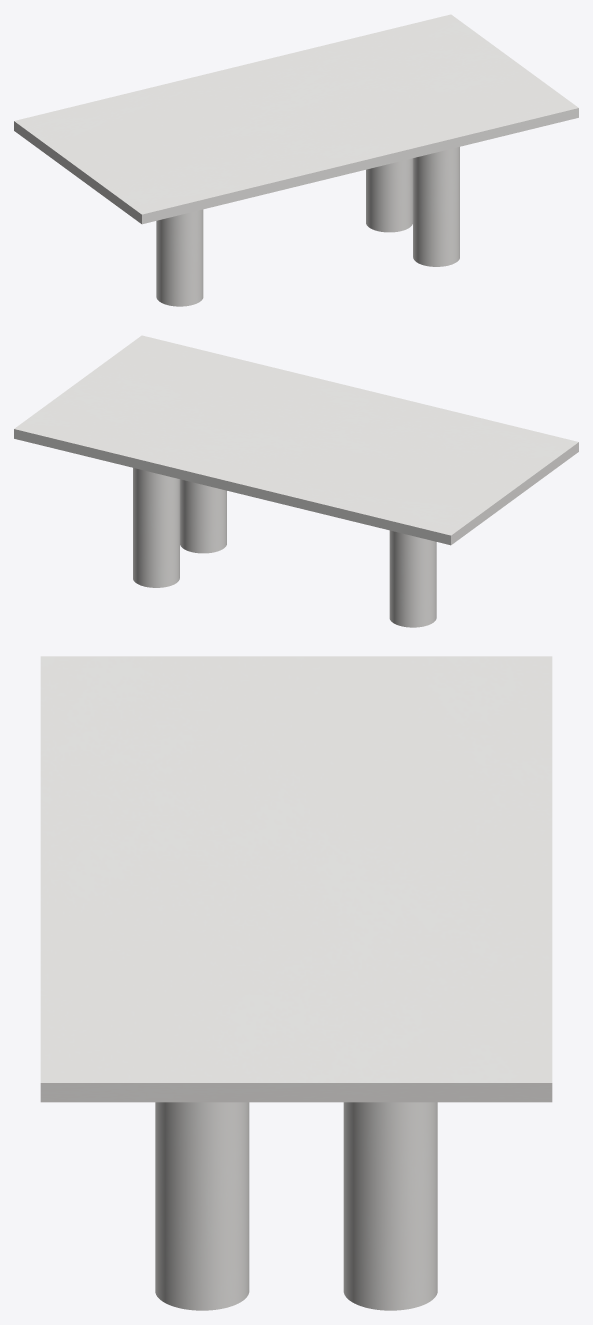
File: purewhite_recta_standard_cylinder.glb
3 renders of one model, top to bottom at view 1: azimuth 30°, elevation 25°; view 2: azimuth 150°, elevation 25°; view 3: azimuth 270°, elevation 25°, orthographic. The views are drawn at different scales.
Parts seen in each view (by area): view 1: standard_recta, cylinder; view 2: standard_recta, cylinder; view 3: standard_recta, cylinder.
Boxes of the visible parts, box(x1,y1,x2,y2) form: standard_recta: box(14, 14, 578, 224); cylinder: box(156, 147, 459, 306); standard_recta: box(14, 335, 578, 545); cylinder: box(133, 468, 436, 627); standard_recta: box(40, 656, 552, 1102); cylinder: box(155, 1102, 437, 1310).
Size of the model in its own units: 7.5 by 2.52 by 3.8.
1 material, 1 textured.
